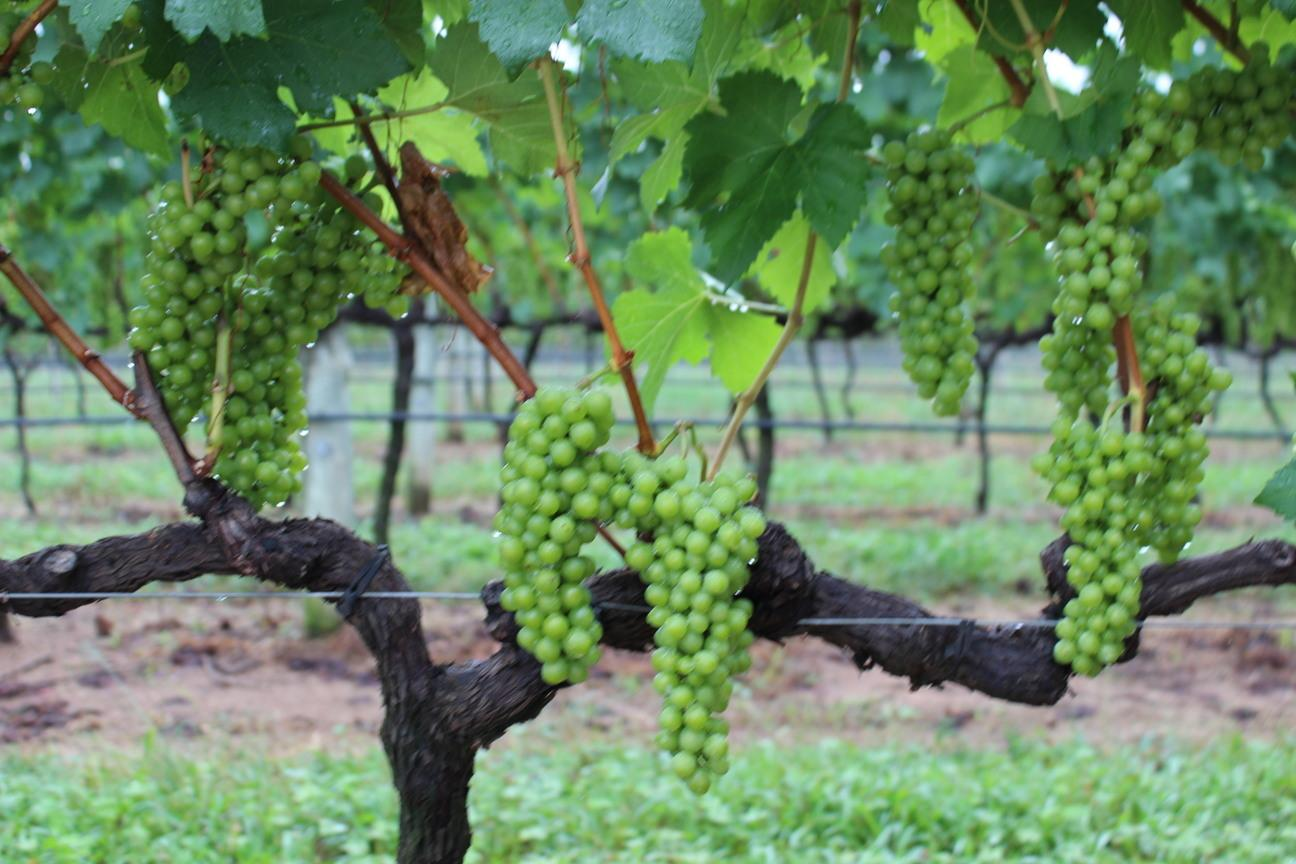leaf: (174, 0, 407, 148), (612, 228, 778, 410), (429, 21, 552, 174), (577, 0, 703, 63), (468, 0, 571, 75), (1108, 0, 1183, 67), (163, 0, 265, 40), (62, 0, 131, 52), (1253, 460, 1295, 519)
